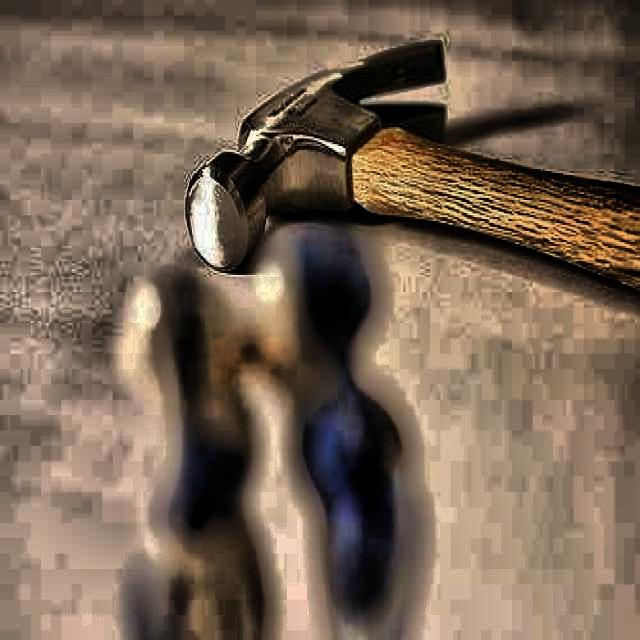hammer: (182, 41, 640, 316)
